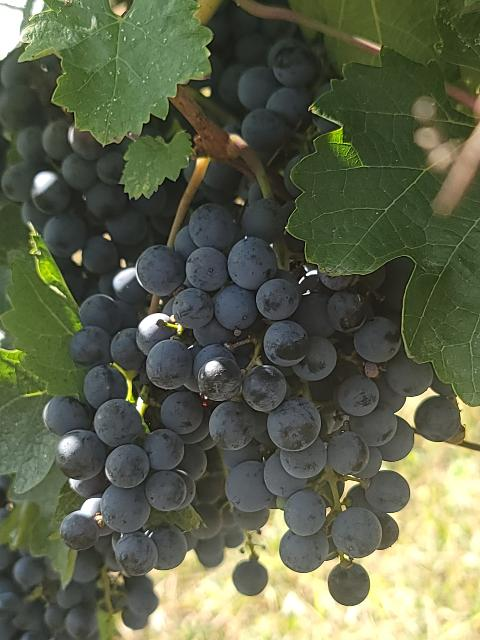grapes: (189, 199, 424, 605), (42, 294, 224, 580)
